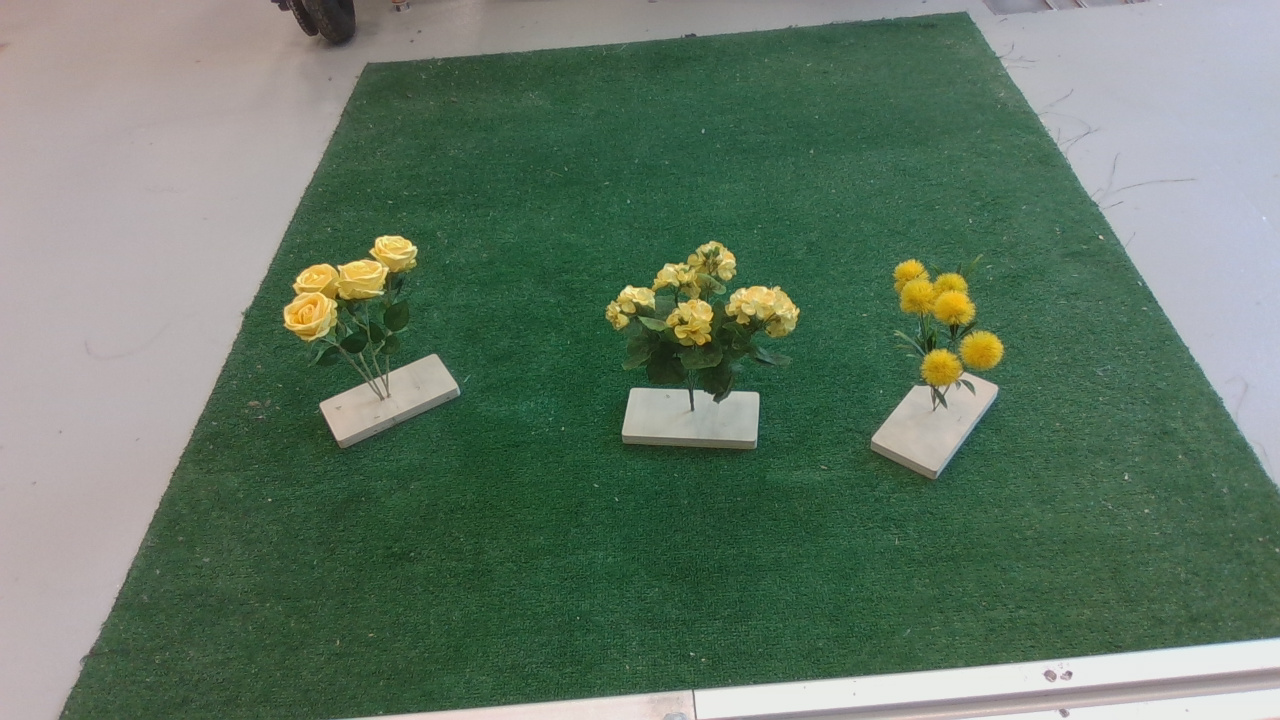dandelion: (886, 258, 1015, 416)
geranium: (604, 243, 814, 416)
rose: (283, 228, 430, 372)
